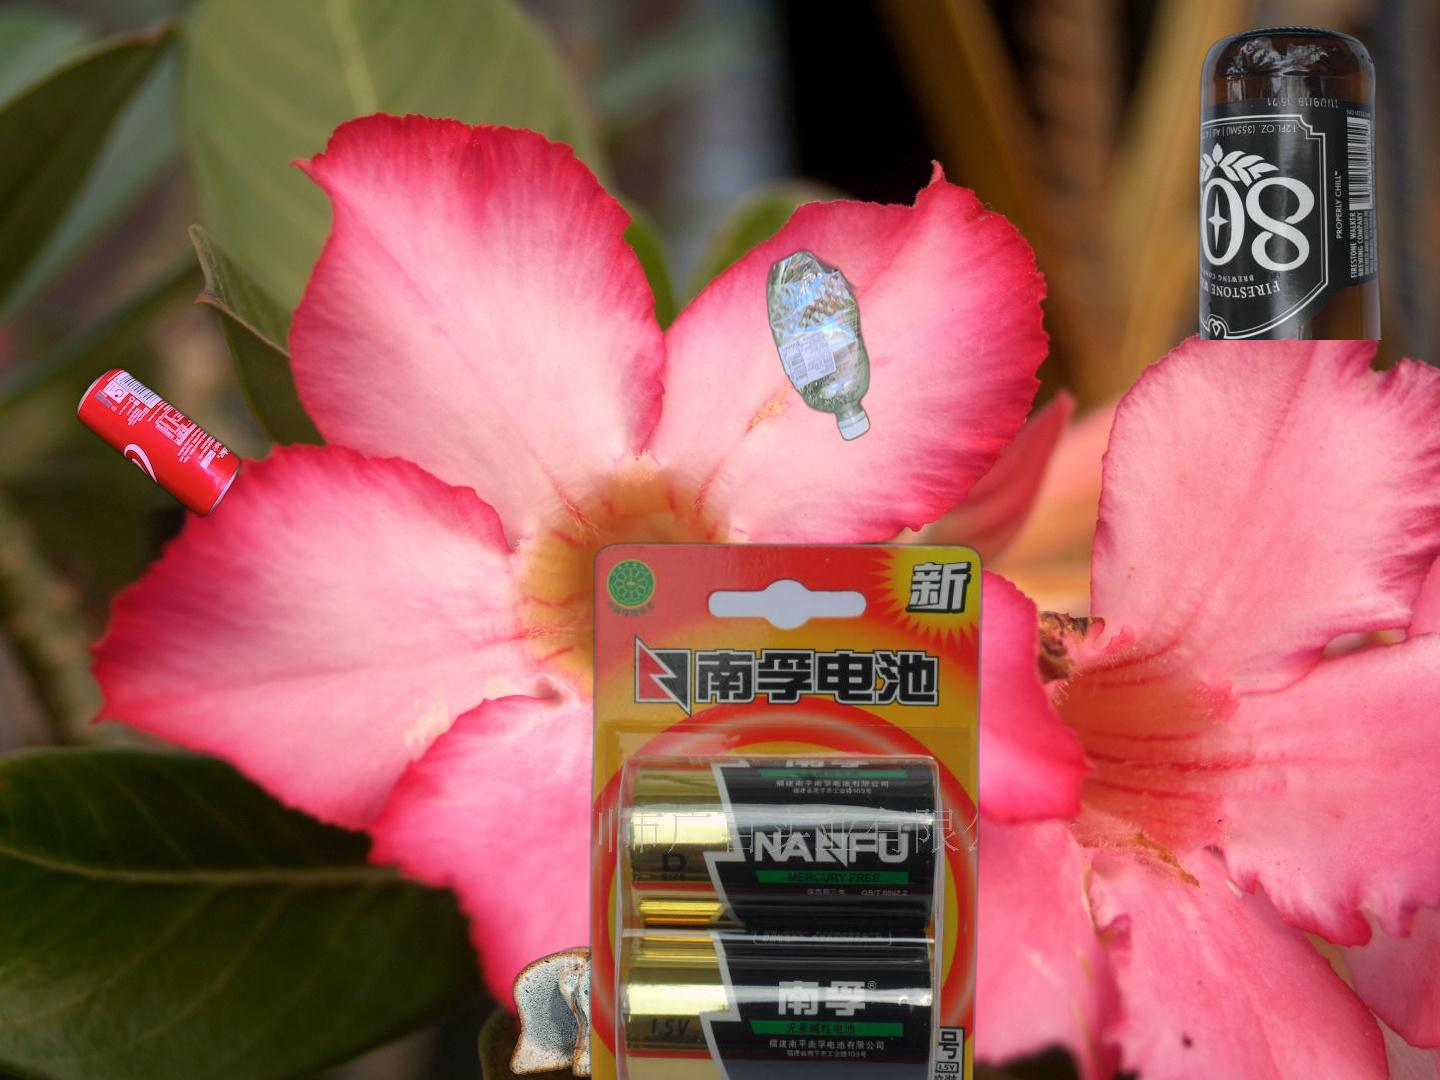battery: (585, 539, 986, 1080)
biological: (505, 940, 760, 1080)
glass: (1195, 23, 1387, 340)
metal-cans: (73, 361, 246, 524)
plastic-bottles: (763, 243, 874, 447)
